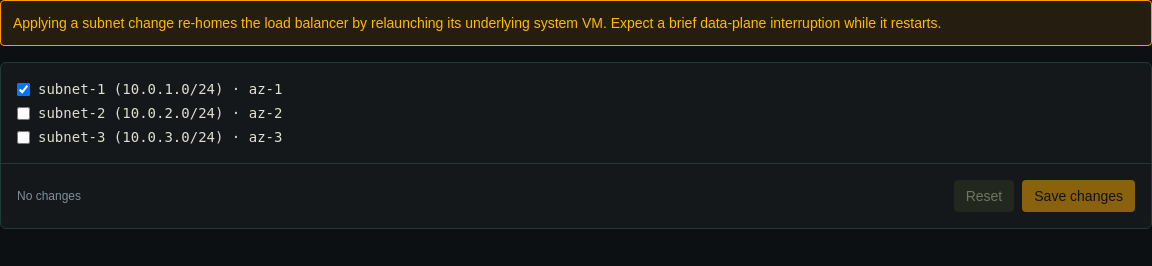
Test: SubnetsEditor › blocks submit when no subnet is selected
Click the checkbox named "Subnet subnet-1" at (24, 89), box [17,82,30,96]
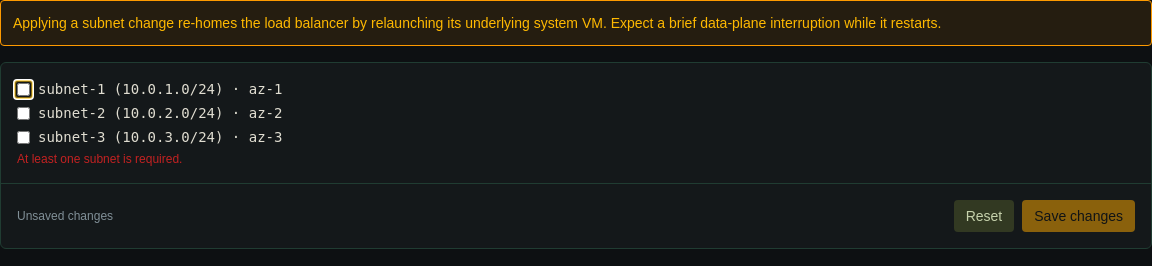
Check: the button "Save changes" is disabled, box [1022,200,1135,232]
Check: the text "At least one subnet is required." is shown, box [17,152,182,166]
